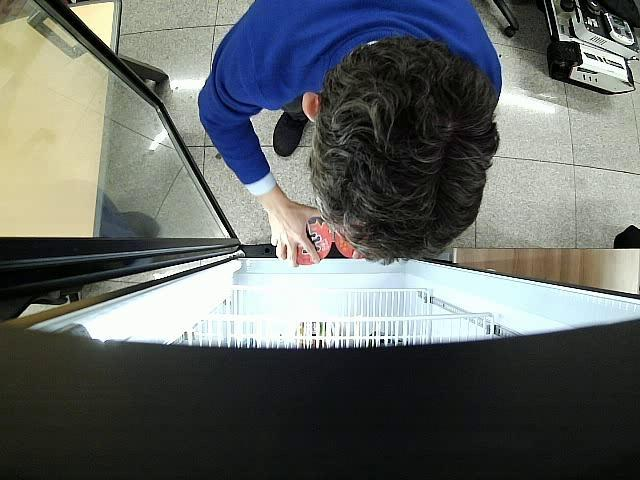01_ShinRamen_L: (280, 217, 332, 267)
